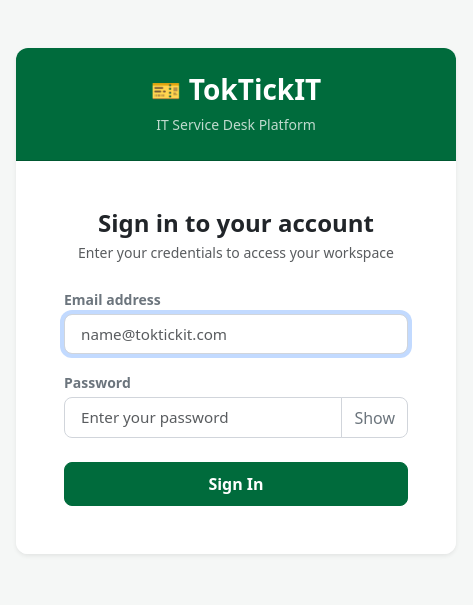
Test case: UI-01: Login Component Tests › shows client error if submitted with empty fields
The image size is (473, 605).
What coordinates should you click on to do the following:
click the button "Sign In"
I would click on:
 (236, 484)
Its box is [64,462,408,506].
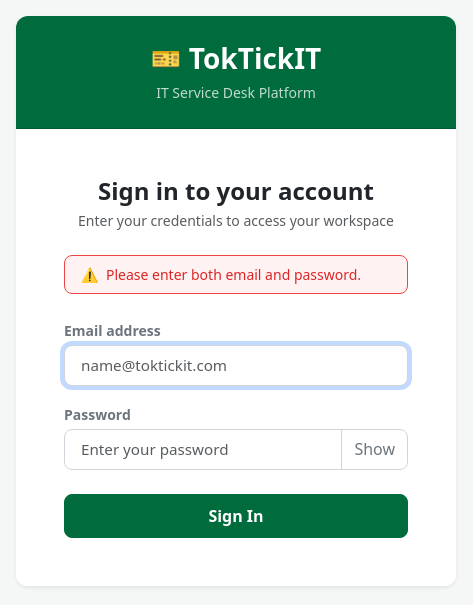
Now the text "Please enter both email and password." is shown, box [106,264,361,285]
